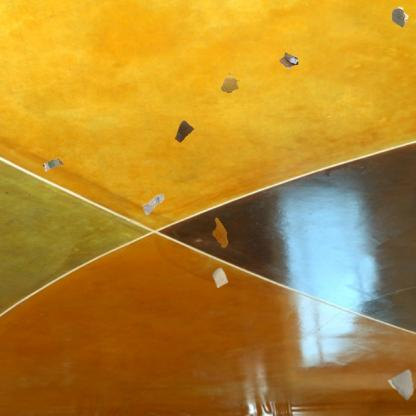dirty: (387, 368, 415, 402), (173, 118, 196, 146), (140, 192, 166, 216), (390, 4, 411, 29), (278, 50, 300, 71), (40, 156, 64, 174), (211, 266, 228, 288)
liquid: (210, 217, 230, 248), (220, 71, 241, 95)
